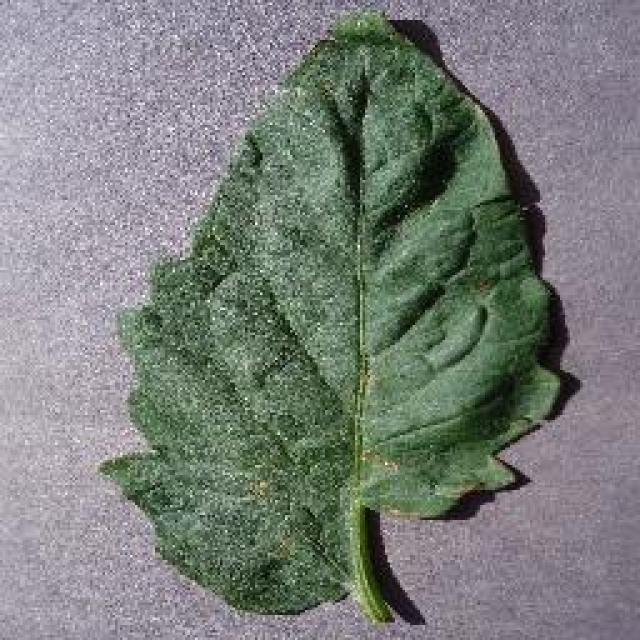Tomato Septoria spot leaf: (96, 8, 572, 620)
